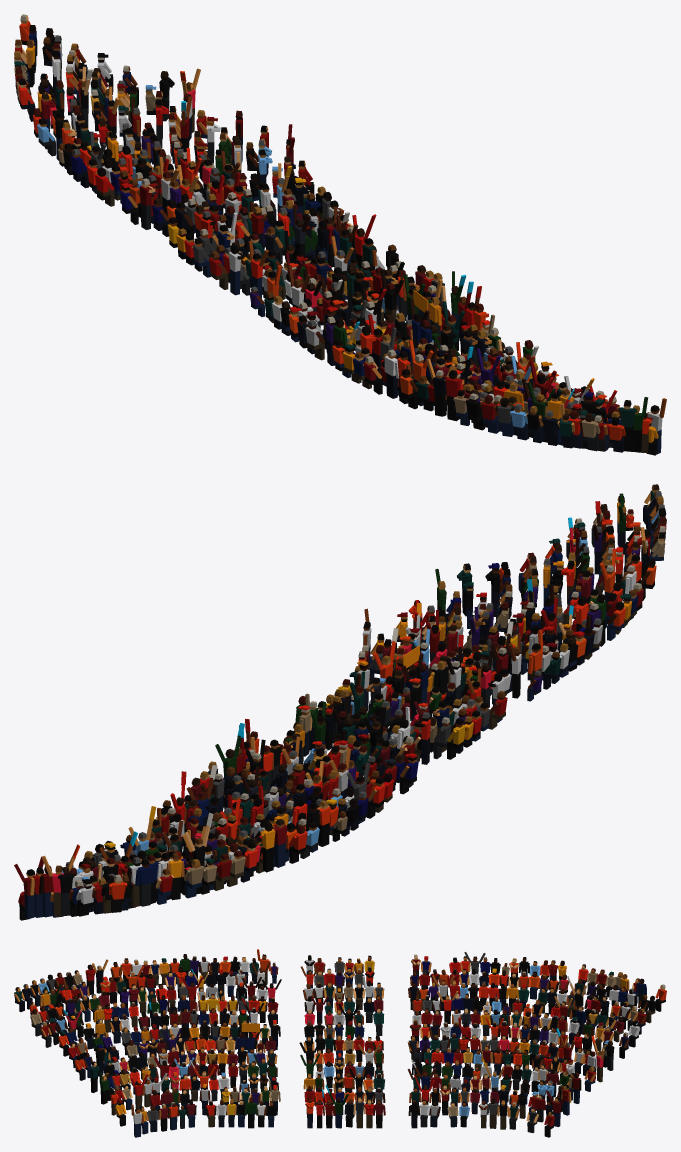
File: SM_Crowd_LowerLeft.fbx
3 views of the same model, one above another, from view 1: azimuth 30°, elevation 25°; view 2: azimuth 150°, elevation 25°; view 3: azimuth 270°, elevation 25° (orthographic). The views are drawn at different scales.
Parts seen in each view (by area): view 1: SM_Crowd_LowerLeft; view 2: SM_Crowd_LowerLeft; view 3: SM_Crowd_LowerLeft.
Part boxes in pixels (box(x1,y1,x2,y2)): SM_Crowd_LowerLeft: box(14, 14, 666, 455); SM_Crowd_LowerLeft: box(14, 484, 666, 920); SM_Crowd_LowerLeft: box(14, 949, 666, 1137).
Bounding box in the file's own units: 1137 × 654 × 3615.
